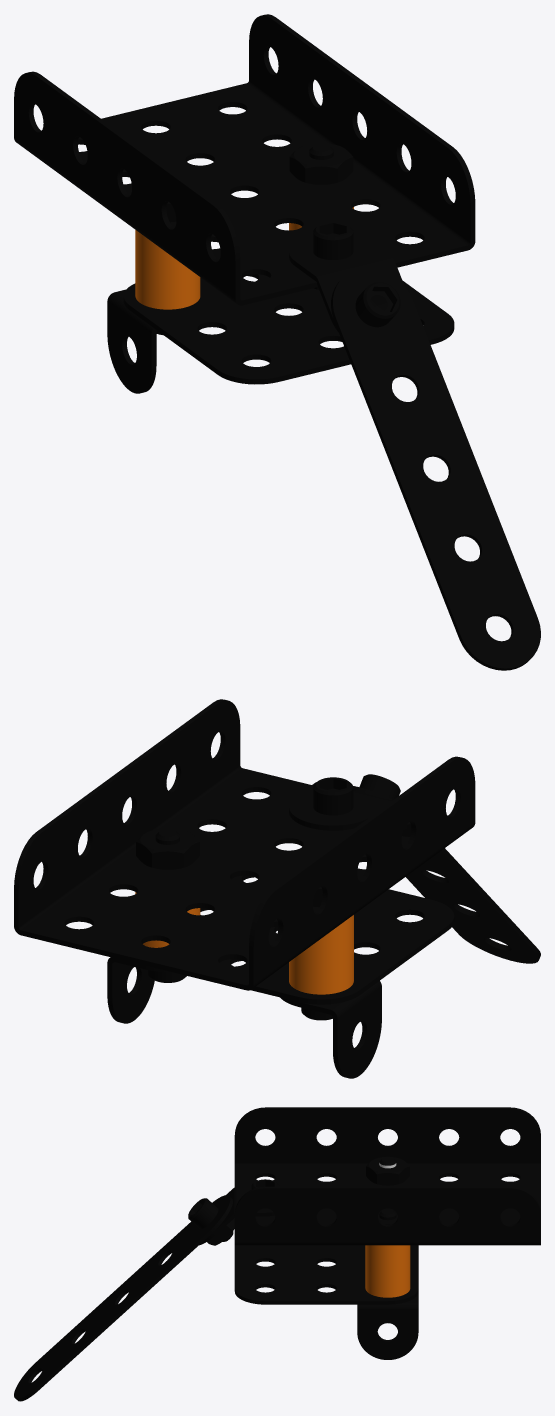
3 renders of one model, top to bottom at view 1: azimuth 30°, elevation 25°; view 2: azimuth 150°, elevation 25°; view 3: azimuth 270°, elevation 25°, orthographic. The views are drawn at different scales.
Parts seen in each view (by area): view 1: polished nickel, matte zinc, white-pw-mt11050; view 2: polished nickel, matte zinc, white-pw-mt11050; view 3: polished nickel, matte zinc, white-pw-mt11050.
Part boxes in pixels (x1=…): polished nickel: x1=14, y1=14, x2=475, y2=384; matte zinc: x1=107, y1=143, x2=540, y2=670; white-pw-mt11050: x1=135, y1=207, x2=353, y2=309; polished nickel: x1=14, y1=699, x2=475, y2=1004; matte zinc: x1=107, y1=774, x2=540, y2=1078; white-pw-mt11050: x1=135, y1=892, x2=353, y2=994; polished nickel: x1=234, y1=1107, x2=540, y2=1304; matte zinc: x1=14, y1=1156, x2=418, y2=1401; white-pw-mt11050: x1=365, y1=1245, x2=410, y2=1297.
Bounding box in the file's own units: 3.97 × 5.71 × 10.93.
